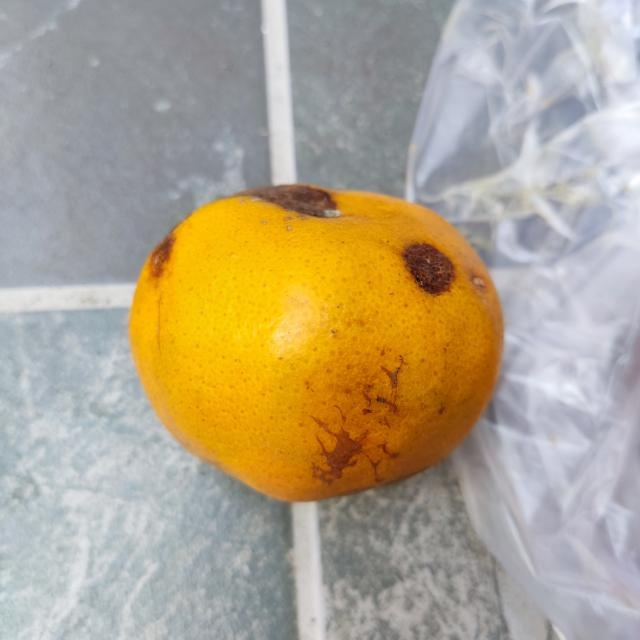agrume: (118, 180, 506, 507)
